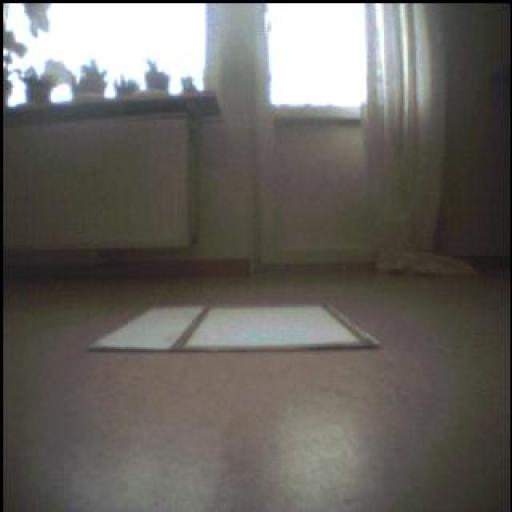Pad: (94, 308, 365, 353)
